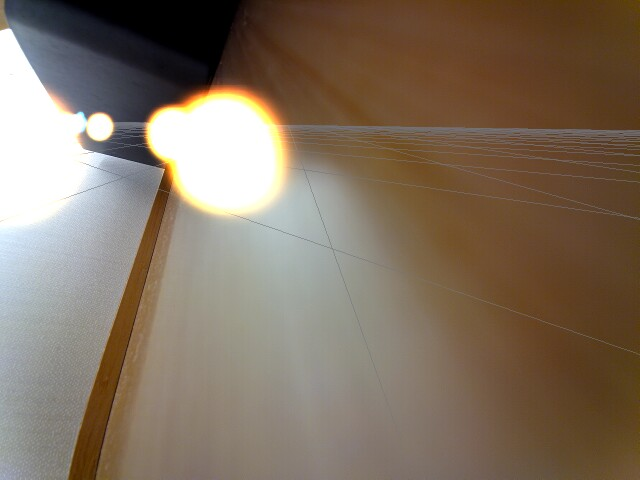fire: (177, 87, 293, 219), (0, 86, 88, 222), (144, 104, 190, 157), (84, 111, 115, 143)
